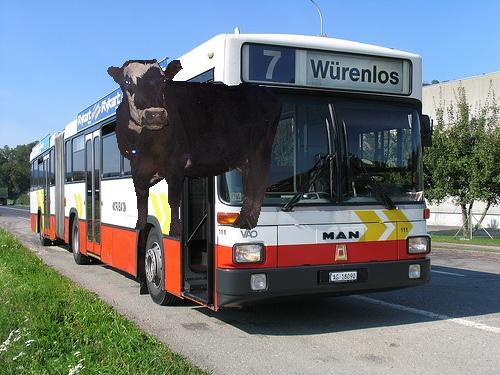tampered: (108, 60, 282, 237)
